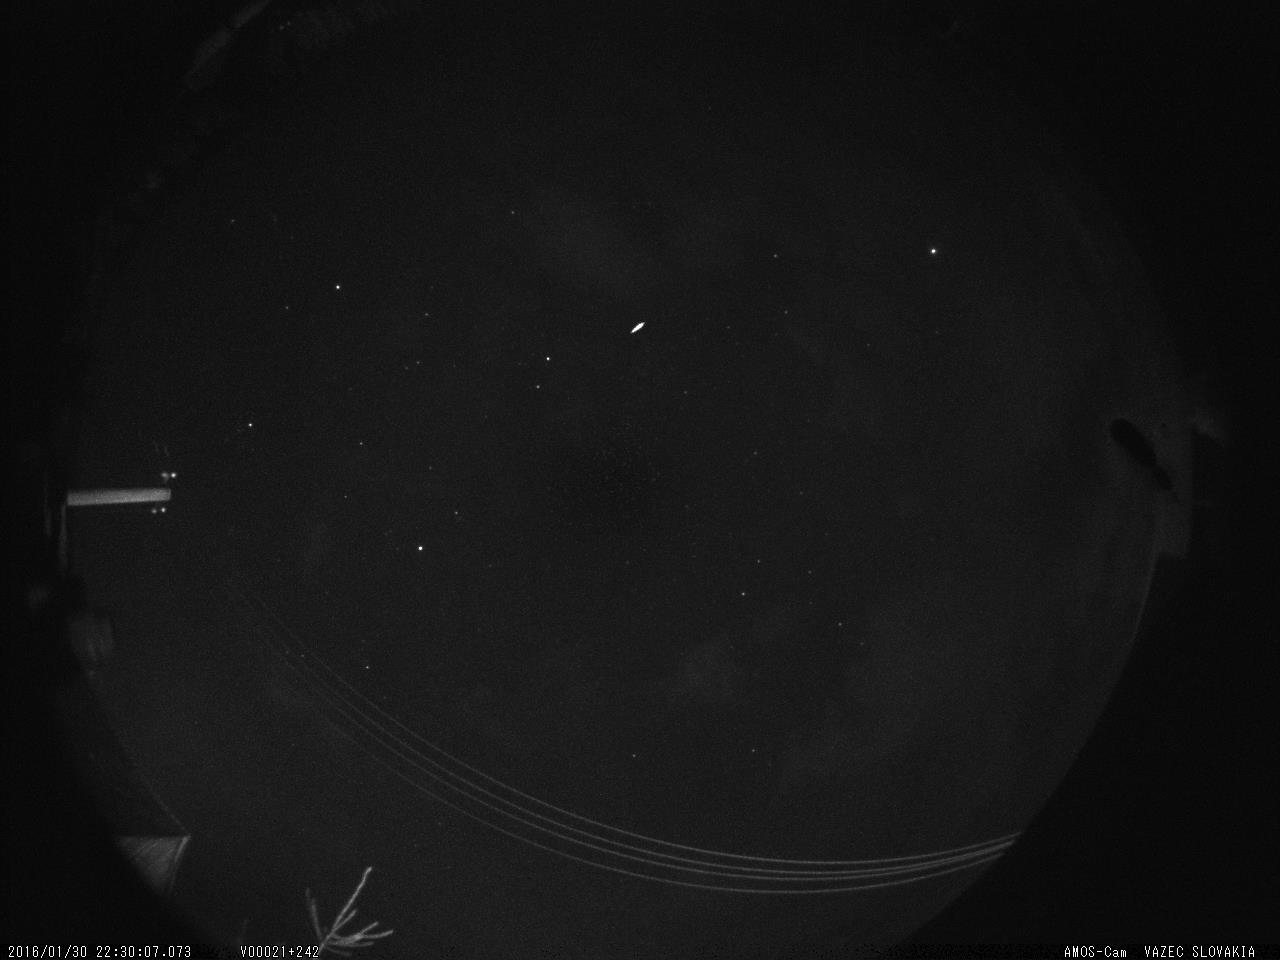meteor: (615, 312, 664, 353)
